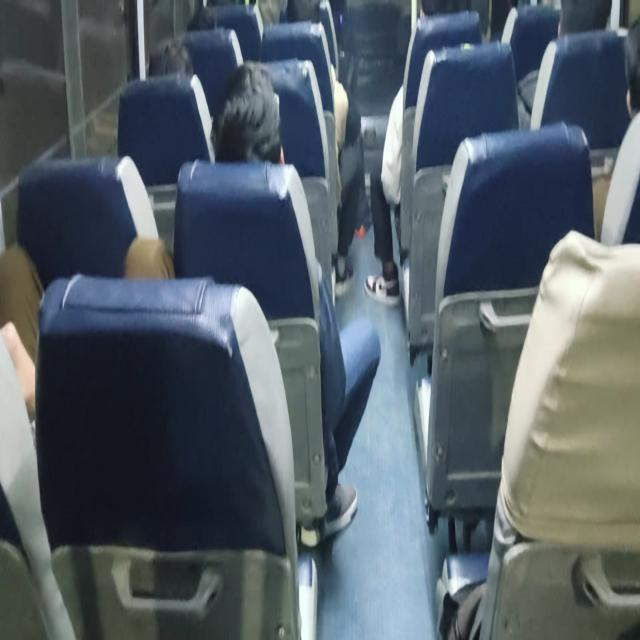person: (209, 59, 381, 538), (364, 5, 484, 306), (1, 234, 176, 421), (255, 0, 365, 296), (517, 0, 612, 130), (599, 16, 639, 245), (147, 36, 213, 159), (210, 60, 285, 165), (147, 36, 194, 79)
